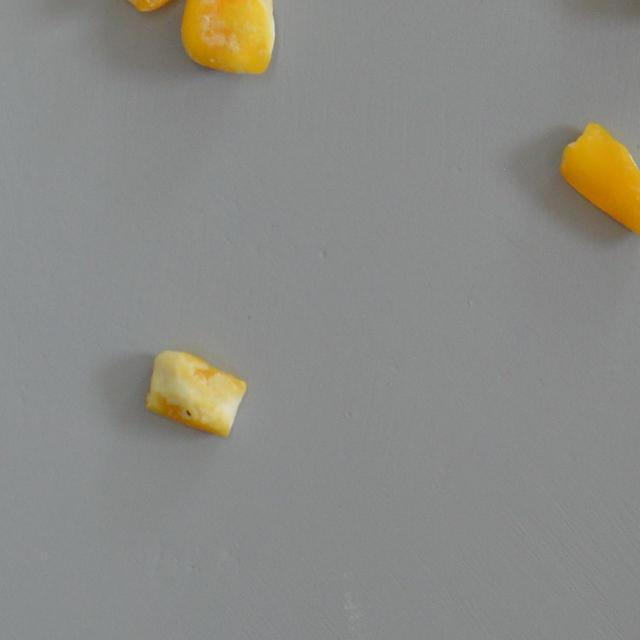estandar: (557, 122, 640, 244)
pelicula: (179, 0, 275, 76)
punto_negro: (144, 346, 246, 438), (108, 0, 224, 12)
